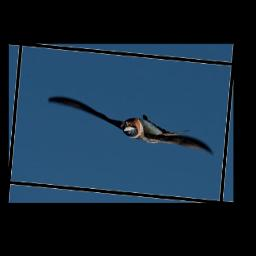Swallow: (43, 96, 216, 159)
